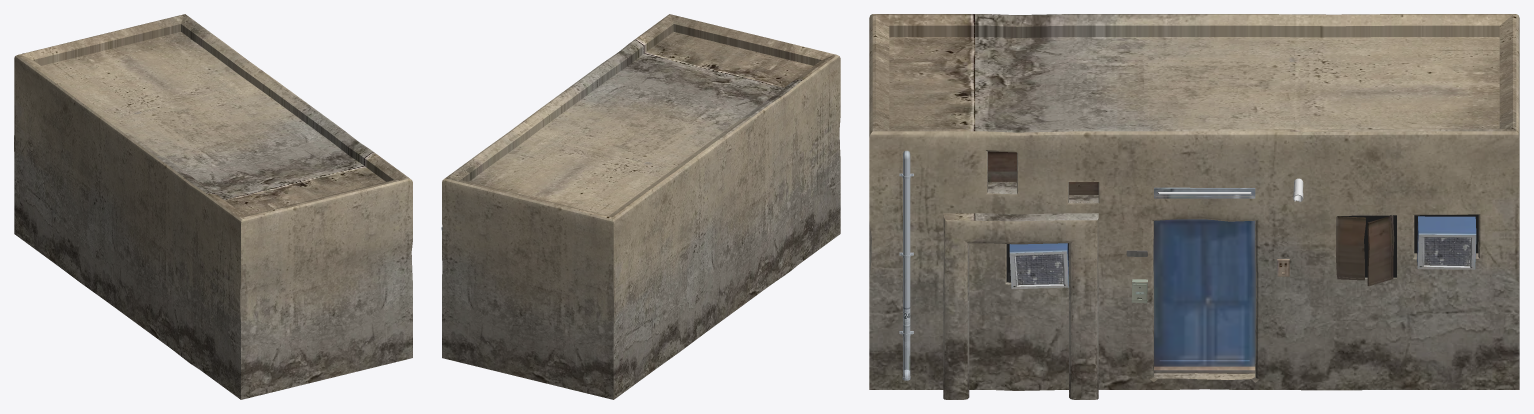
Rendered from h_arab2.glb.
3 views of the same model, side by side, from view 1: azimuth 30°, elevation 25°; view 2: azimuth 150°, elevation 25°; view 3: azimuth 270°, elevation 25° (orthographic). The views are drawn at different scales.
Parts seen in each view (by area): view 1: Cube.001_wall_0; view 2: Cube.001_wall_0; view 3: Cube.001_wall_0, Cube.001_door/_0, Cube.001_Mkyf_0, Cube.001_WINDOW WOD_0, Cube.001_Material.002_0, Cube.001_black_0.
Boxes of the visible parts, bbox=[...] form: Cube.001_wall_0: bbox=[14, 14, 412, 399]; Cube.001_wall_0: bbox=[442, 14, 840, 399]; Cube.001_wall_0: bbox=[869, 14, 1519, 399]; Cube.001_door/_0: bbox=[1153, 219, 1289, 373]; Cube.001_Mkyf_0: bbox=[1009, 216, 1476, 289]; Cube.001_WINDOW WOD_0: bbox=[988, 151, 1394, 286]; Cube.001_Material.002_0: bbox=[899, 150, 913, 380]; Cube.001_black_0: bbox=[1006, 214, 1478, 282].
Size of the model in its own units: 3.77 by 3.46 by 7.86.
10 materials, 7 textured.
